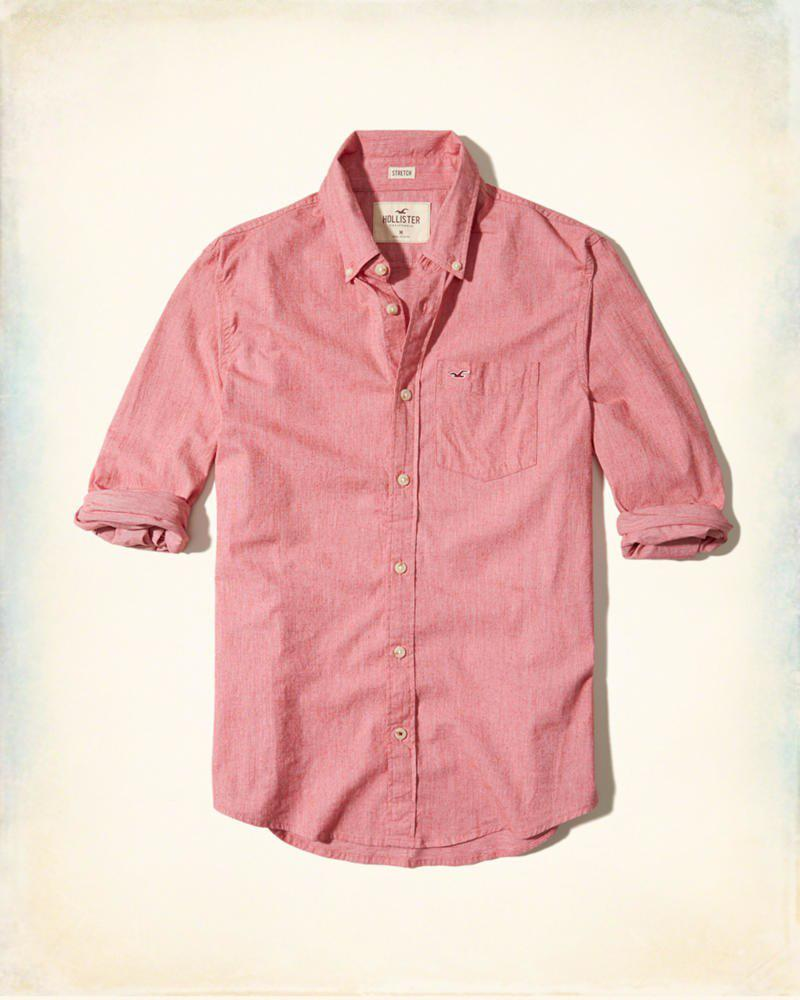teeshirt: (67, 115, 749, 869)
